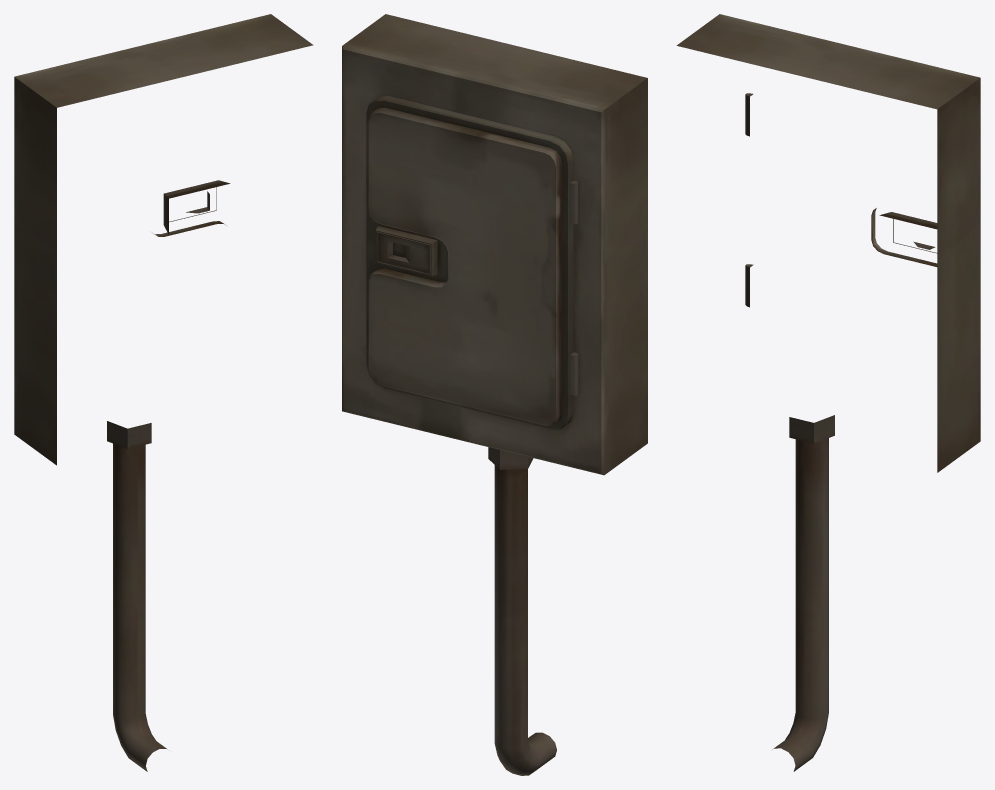
3 renders of one model, left to right at view 1: azimuth 30°, elevation 25°; view 2: azimuth 150°, elevation 25°; view 3: azimuth 330°, elevation 25°, orthographic. The views are drawn at different scales.
Parts seen in each view (by area): view 1: body0_model0_lod0_mesh0; view 2: body0_model0_lod0_mesh0; view 3: body0_model0_lod0_mesh0.
Boxes of the visible parts, box(x1,y1,x2,y2) form: body0_model0_lod0_mesh0: box(14, 14, 313, 771); body0_model0_lod0_mesh0: box(342, 14, 647, 775); body0_model0_lod0_mesh0: box(676, 14, 980, 771).
Bounding box in the file's own units: 21.03 × 54.27 × 7.53.
Materials: 1 (1 with a texture image).
